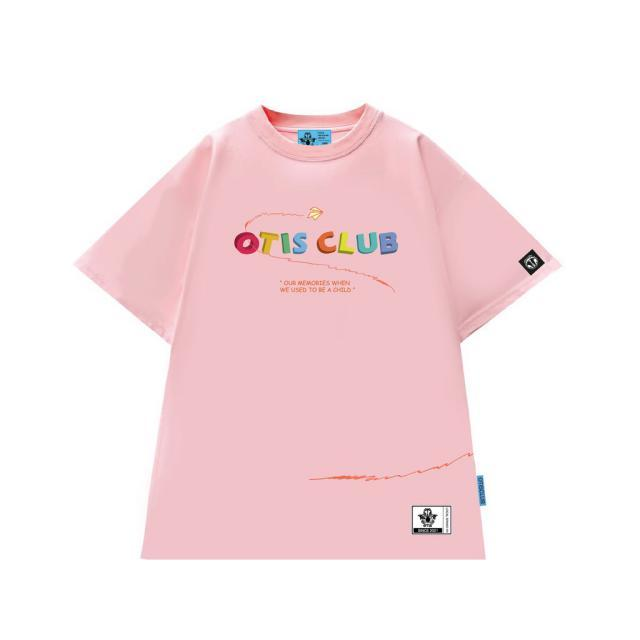Shirt: (70, 100, 566, 566)
